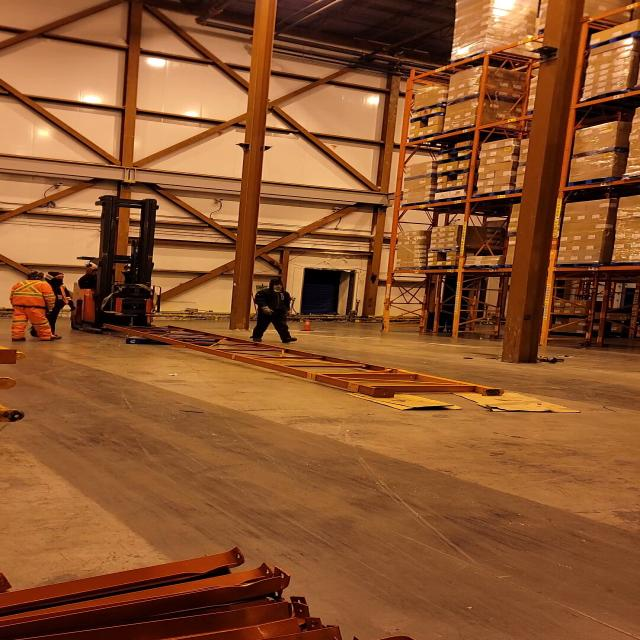forklift: (67, 199, 190, 339)
human: (8, 272, 57, 342), (249, 278, 298, 346), (42, 270, 74, 340), (79, 265, 132, 292)
objectofinterest: (90, 320, 510, 398), (449, 382, 586, 416), (341, 379, 464, 413), (124, 334, 164, 348)
